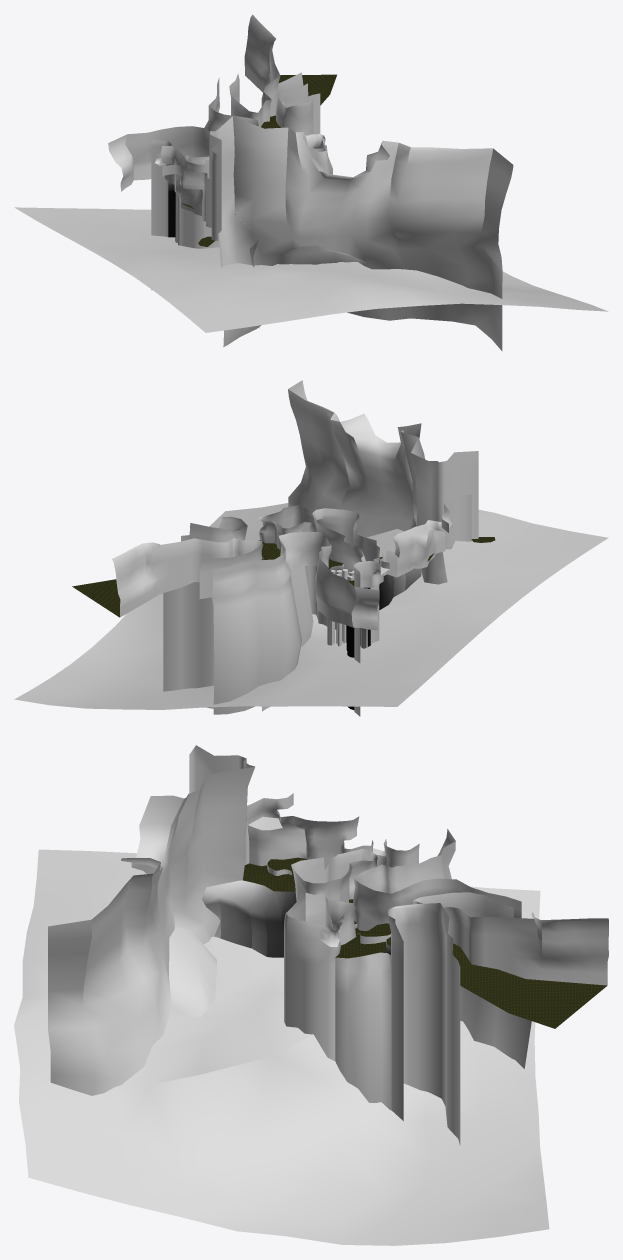
The picture shows the model from 3 angles, top to bottom: view 1: azimuth 30°, elevation 25°; view 2: azimuth 150°, elevation 25°; view 3: azimuth 270°, elevation 25°; orthographic projection. The views are drawn at different scales.
Parts seen in each view (by area): view 1: Cliff North High, Rock Bottom, Cliff East 2 High, Cliff East 1 High, Cliff West 2 High, Cliff West 1 High, Ground 1 High; view 2: Rock Bottom, Cliff North High, Cliff East 2 High, Cliff East 1 High, Cliff West 1 High, Cliff West 2 High, Ground 1 High, Ground 1 High.001, Cliff West 2 High.001; view 3: Rock Bottom, Cliff North High, Cliff West 1 High, Ground 1 High.001, Cliff West 2 High, Cliff East 1 High, Cliff East 2 High, Ground 1 High.
Part boxes in pixels (x1,y1,x2,y2): Cliff North High: (151,116,513,351); Rock Bottom: (14,207,608,332); Cliff East 2 High: (108,77,258,191); Cliff East 1 High: (229,14,280,126); Cliff West 2 High: (175,134,332,248); Cliff West 1 High: (276,72,320,135); Ground 1 High: (198,74,336,246); Rock Bottom: (14,503,608,709); Cliff North High: (288,380,478,716); Cliff East 2 High: (212,531,379,714); Cliff East 1 High: (112,538,263,617); Cliff West 1 High: (163,516,247,708); Cliff West 2 High: (259,505,379,648); Ground 1 High: (72,537,495,617); Ground 1 High.001: (379,568,422,609); Cliff West 2 High.001: (327,569,354,646); Rock Bottom: (14,849,549,1245); Cliff North High: (48,745,419,1095); Cliff West 1 High: (388,903,460,1145); Ground 1 High.001: (202,880,391,1110); Cliff West 2 High: (284,848,377,1060); Cliff East 1 High: (413,892,608,985); Cliff East 2 High: (353,829,531,1068); Ground 1 High: (243,863,606,1028).
Size of the model in its own units: 72247 by 41784 by 74193.
